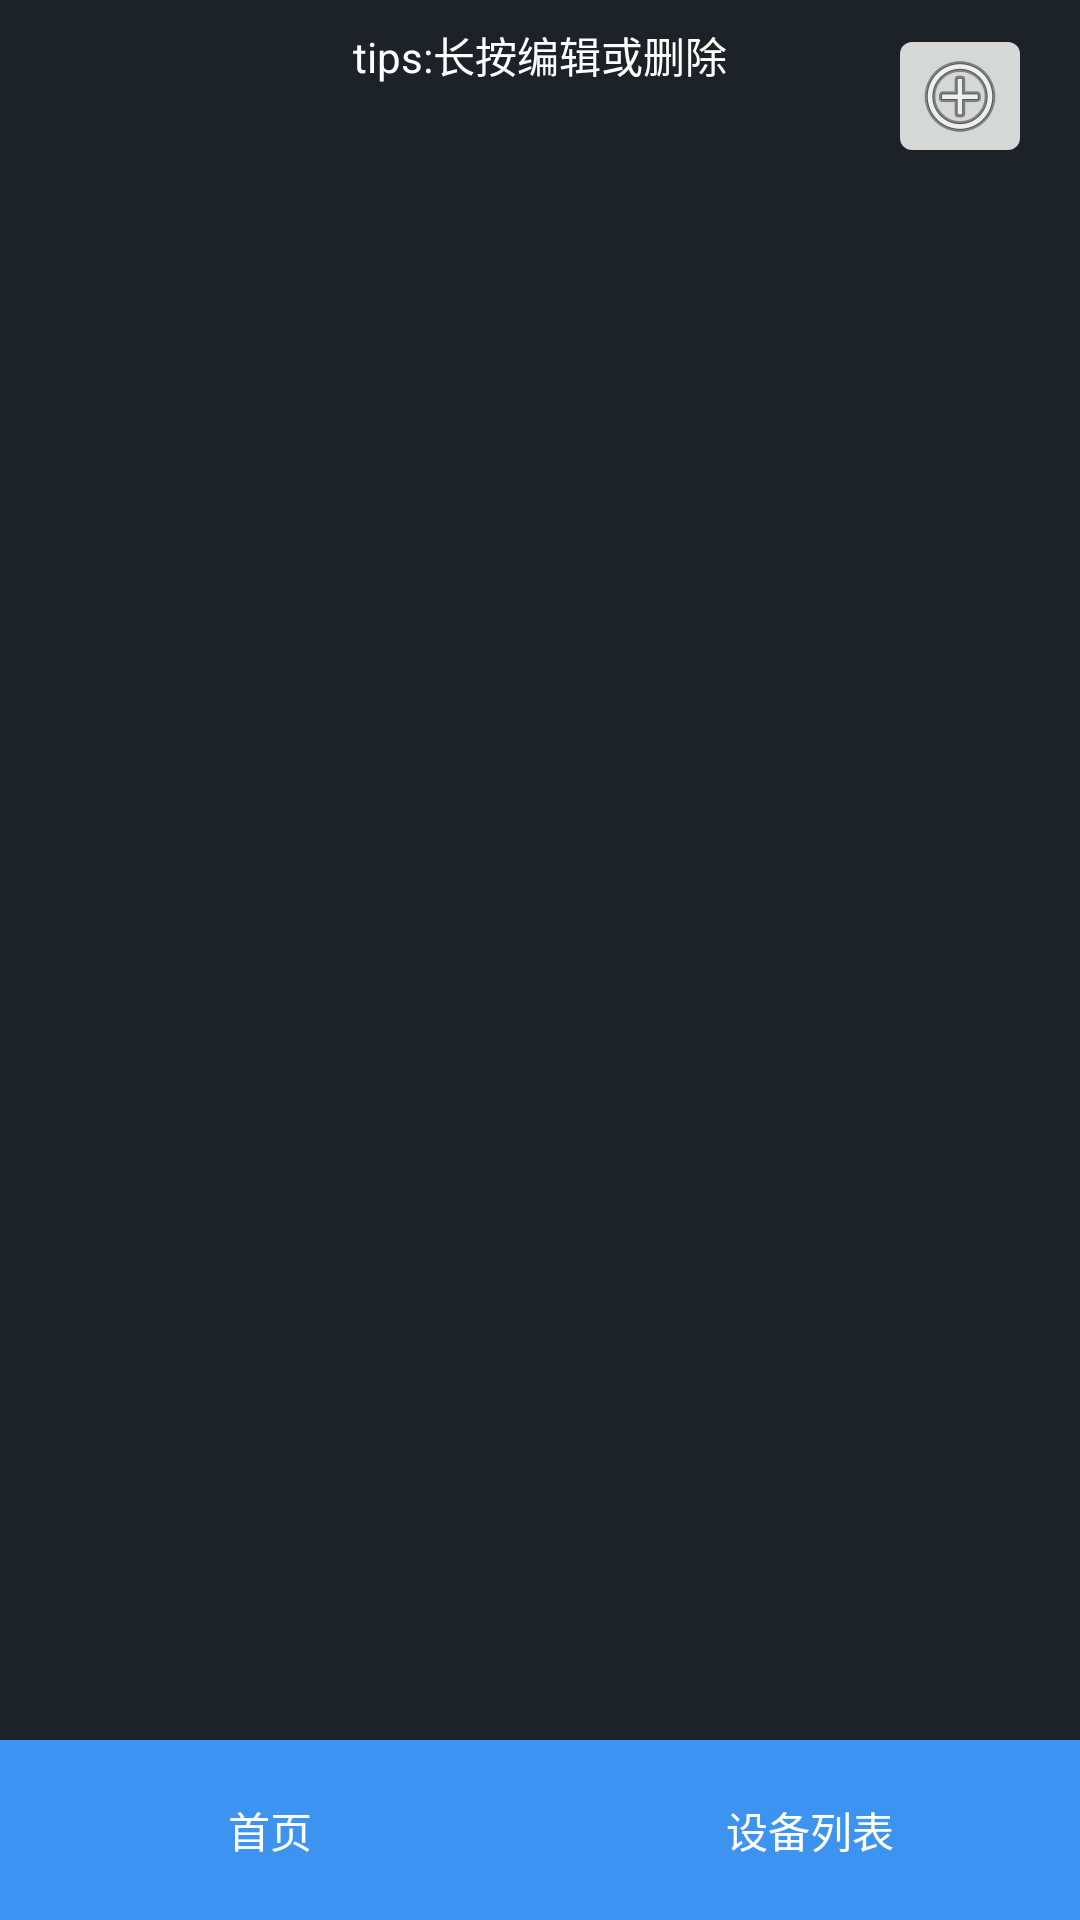

Point at icon controls on the screen. Image size 1080 x 1920, points as (x,y).
Add Device: (960,96)
